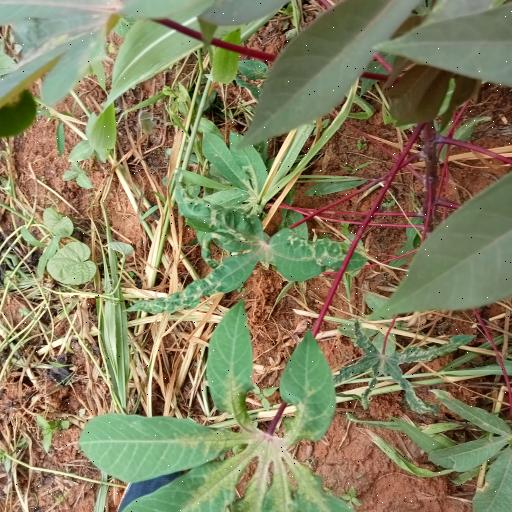Cassava_Mosaic: (108, 322, 351, 512), (176, 187, 351, 312)
